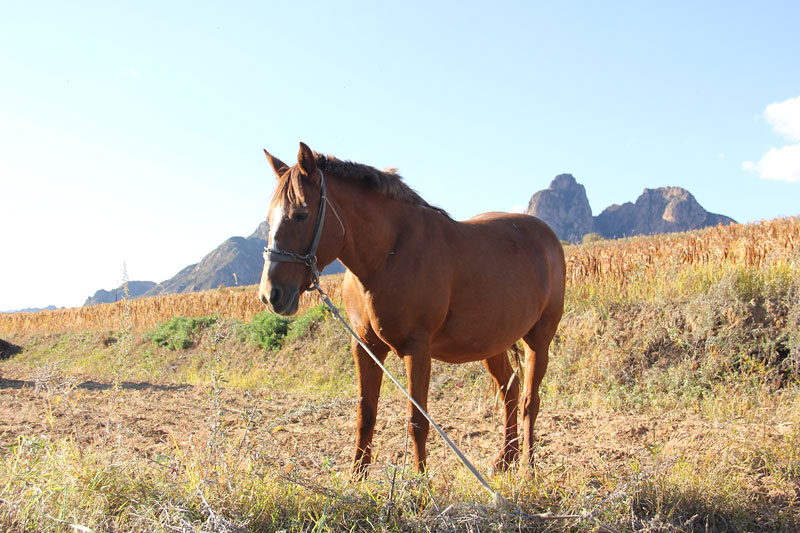horse: (259, 142, 566, 487)
